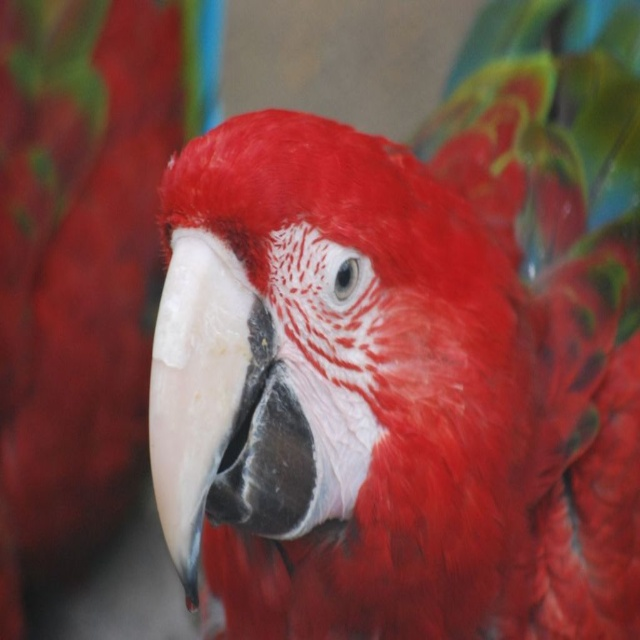Parrot: (149, 0, 640, 640)
